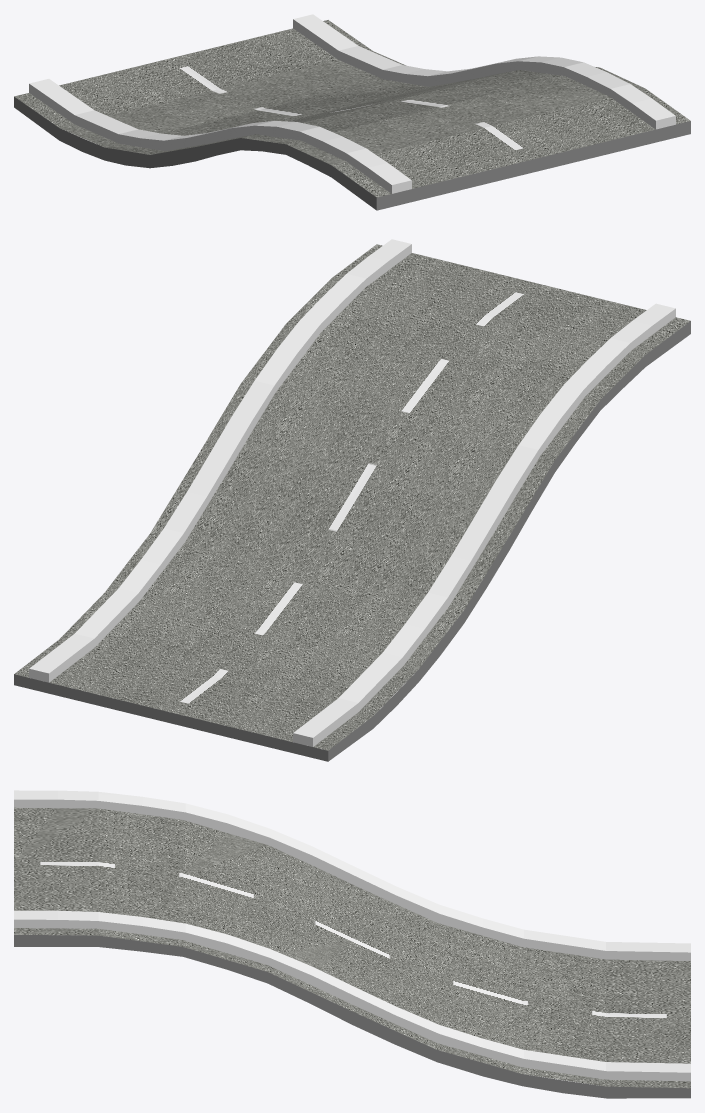
The model's file is TunnelEntrance.fbx.
3 views of the same model, one above another, from view 1: azimuth 30°, elevation 25°; view 2: azimuth 150°, elevation 25°; view 3: azimuth 270°, elevation 25° (orthographic). The views are drawn at different scales.
Parts seen in each view (by area): view 1: TunnelEntrance; view 2: TunnelEntrance; view 3: TunnelEntrance.
Boxes of the visible parts, x1,y1,x2,y2 form: TunnelEntrance: (14, 14, 690, 210); TunnelEntrance: (14, 239, 690, 761); TunnelEntrance: (14, 790, 690, 1098).
Size of the model in its own units: 600 by 336 by 1200.
